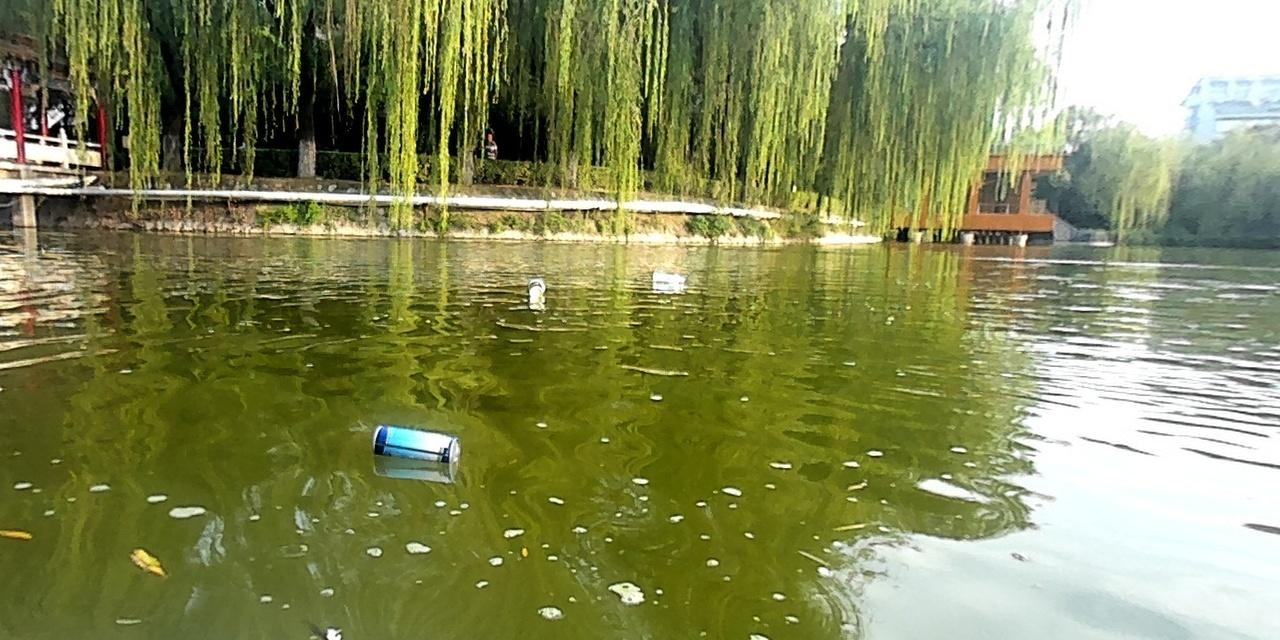bottle: (371, 420, 462, 464), (648, 265, 686, 286), (523, 276, 548, 297)
